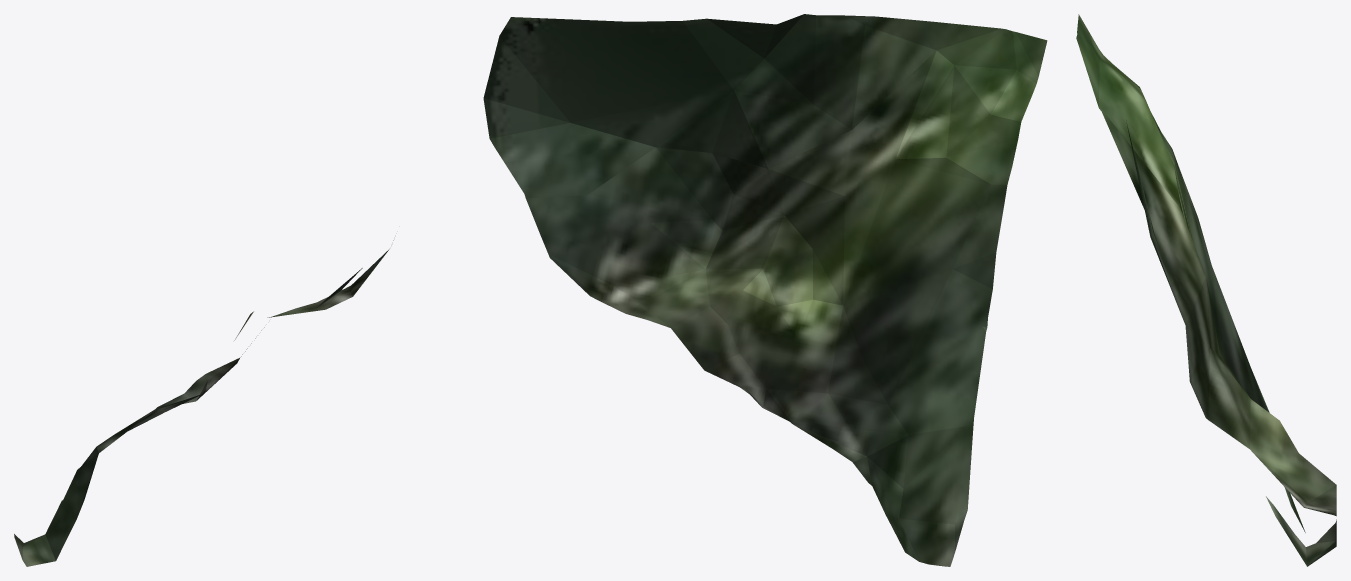
The picture shows the model from 3 angles, left to right: view 1: azimuth 30°, elevation 25°; view 2: azimuth 150°, elevation 25°; view 3: azimuth 270°, elevation 25°; orthographic projection. The views are drawn at different scales.
Size of the model in its own units: 3.26 by 3.14 by 1.39.
1 material, 1 textured.
